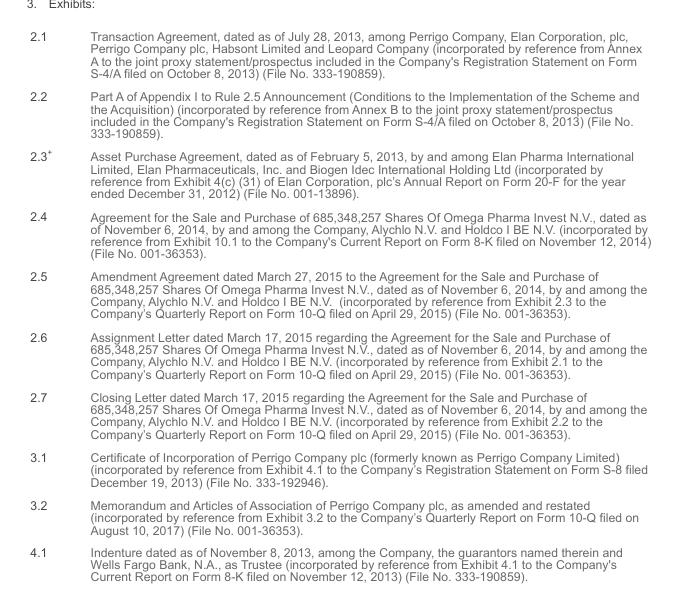table: (29, 28, 650, 582)
table column: (70, 28, 650, 582), (29, 28, 70, 582)
table row: (29, 143, 650, 204), (29, 384, 650, 445), (29, 204, 650, 264), (29, 264, 650, 324), (29, 324, 650, 384), (29, 84, 650, 143), (29, 28, 650, 84), (29, 445, 650, 493), (29, 493, 650, 540), (29, 540, 650, 582)
